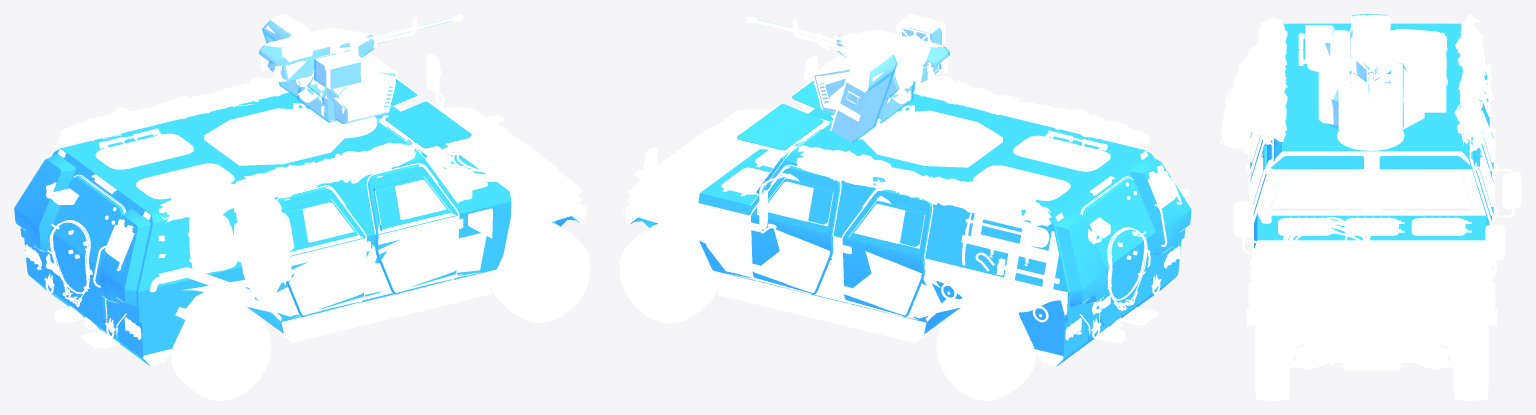
The model's file is CSK.gltf.
3 renders of one model, left to right at view 1: azimuth 30°, elevation 25°; view 2: azimuth 150°, elevation 25°; view 3: azimuth 270°, elevation 25°, orthographic.
Visible parts, largest first — view 1: 15, CSK_Hull_col, 15_3, 15_4, 15_7, 15_5, 15_9, SM_QJZ_89_RWS_Gun_Col_177, 15_1, CSK_windshieldcover_R_156, 15_8, SM_QJZ_89_RWS_Turret_Col_174; view 2: 15, CSK_Hull_col, 15_3, 15_7, 15_4, 15_9, SM_QJZ_89_RWS_Turret_Col_174, 15_1, CSK_windshieldcover_L_153, SM_QJZ_89_RWS_Gun_Col_177, 15_8; view 3: 15, 15_4, CSK_Hull_col, 15_1, 15_7, 15_3, 15_5, 15_8, CSK_windshieldcover_L_153, CSK_windshieldcover_R_156, SM_QJZ_89_RWS_Gun_Col_177, 15_9 (+1 smaller).
Boxes of the visible parts, x1,y1,x2,y2 form: 15: [18, 53, 588, 365]; CSK_Hull_col: [14, 92, 579, 365]; 15_3: [170, 222, 590, 400]; 15_4: [260, 14, 463, 138]; 15_7: [53, 76, 416, 222]; 15_5: [188, 195, 294, 289]; 15_9: [204, 103, 348, 165]; SM_QJZ_89_RWS_Gun_Col_177: [259, 18, 451, 89]; 15_1: [106, 183, 442, 257]; CSK_windshieldcover_R_156: [385, 101, 471, 148]; 15_8: [437, 140, 520, 181]; SM_QJZ_89_RWS_Turret_Col_174: [262, 20, 395, 124]; 15: [622, 55, 1190, 365]; CSK_Hull_col: [631, 93, 1191, 366]; 15_3: [619, 223, 1036, 400]; 15_7: [796, 76, 1149, 226]; 15_4: [747, 14, 948, 141]; 15_9: [861, 105, 1002, 167]; SM_QJZ_89_RWS_Turret_Col_174: [814, 54, 915, 142]; 15_1: [768, 173, 1175, 240]; CSK_windshieldcover_L_153: [737, 104, 823, 150]; SM_QJZ_89_RWS_Gun_Col_177: [762, 21, 949, 82]; 15_8: [724, 113, 817, 149]; 15: [1233, 22, 1521, 370]; 15_4: [1305, 14, 1447, 150]; CSK_Hull_col: [1250, 23, 1493, 248]; 15_1: [1250, 117, 1493, 310]; 15_7: [1254, 14, 1484, 152]; 15_3: [1255, 308, 1488, 400]; 15_5: [1220, 46, 1263, 148]; 15_8: [1283, 217, 1374, 263]; CSK_windshieldcover_L_153: [1379, 156, 1472, 169]; CSK_windshieldcover_R_156: [1271, 156, 1363, 169]; SM_QJZ_89_RWS_Gun_Col_177: [1304, 14, 1387, 101]; 15_9: [1336, 74, 1424, 129].
Bounding box in the file's own units: 5.49 × 2.99 × 2.9.
